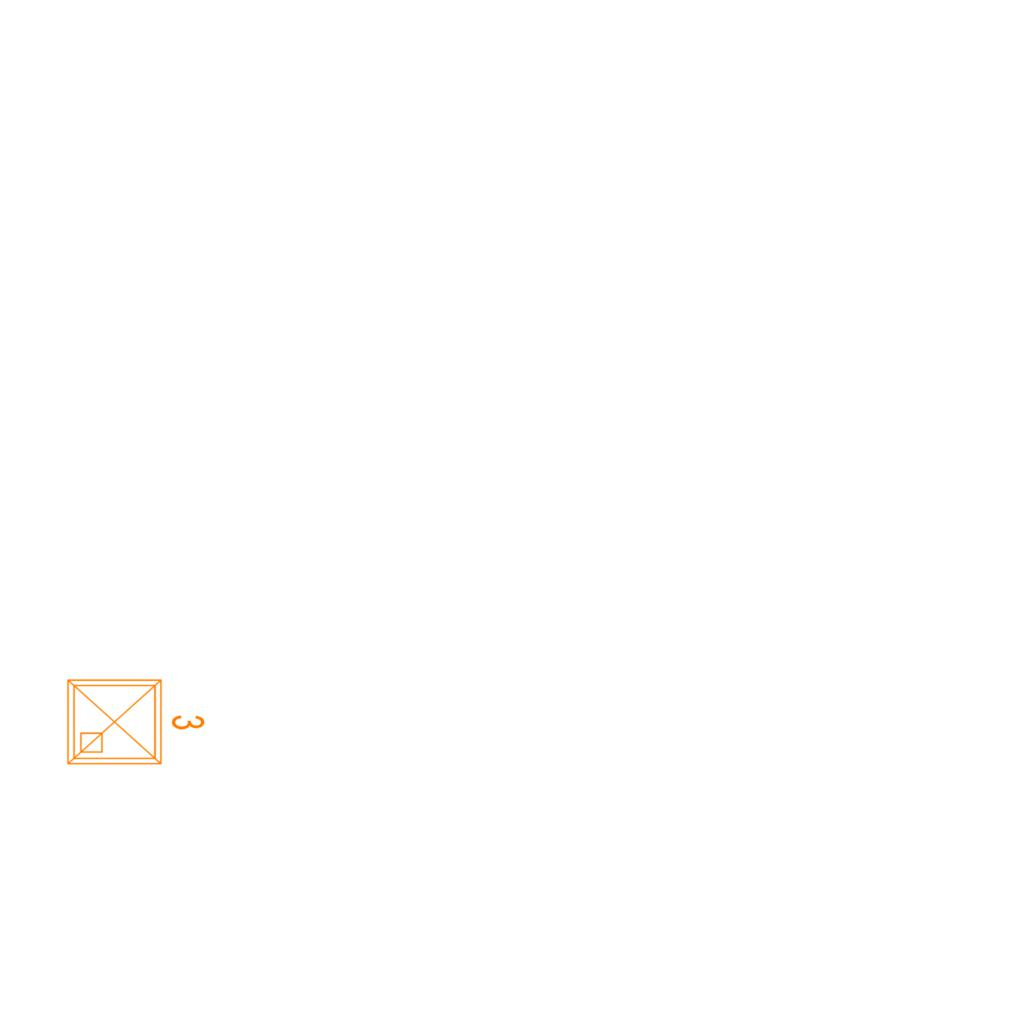Einbaudownlights_LED_Konferenzraeume: (60, 668, 210, 772)
